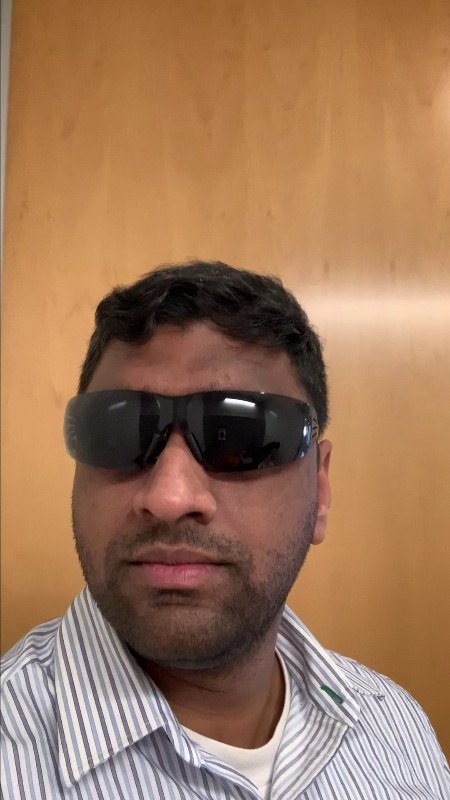glasses: (51, 384, 338, 489)
